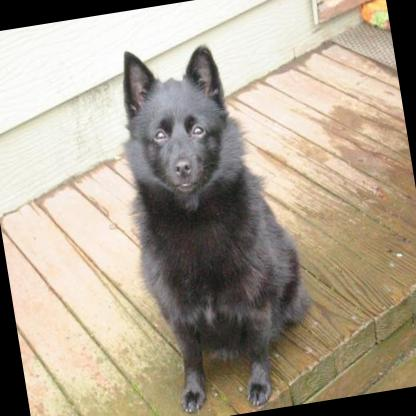schipperke: (98, 20, 326, 416)
